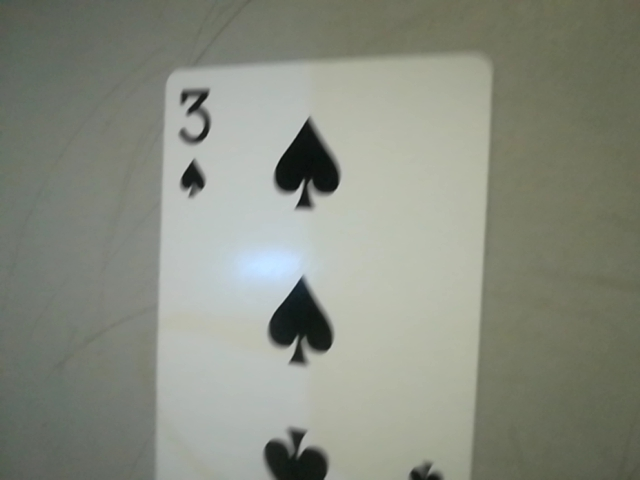ht 3: (161, 80, 223, 208)
